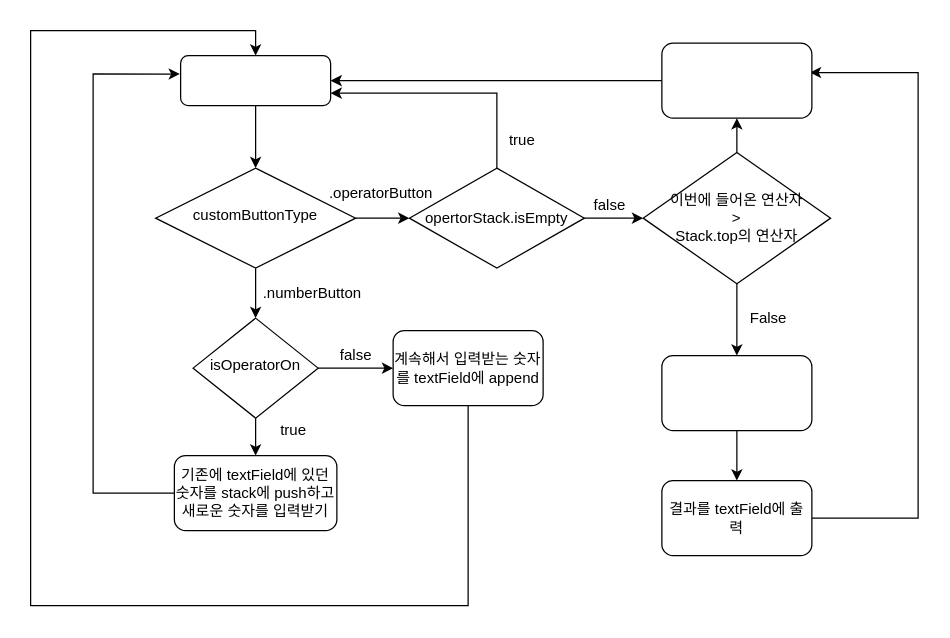
Image size: 950x638. Some labels were removed from this diagram. The centre of each missing label's shape, as x and y in pixels:
"Stack을 Pop하여 계산 (이번에 들어온 연산자보다 우선순위가 낮은 연산자 나올때 까지)" belongs at (736,392).
"버튼을 입력" belongs at (255,80).
"이번에 들어온 연산자를 Toggle" belongs at (736,80).
